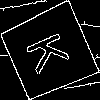K: (24, 26, 79, 76)
